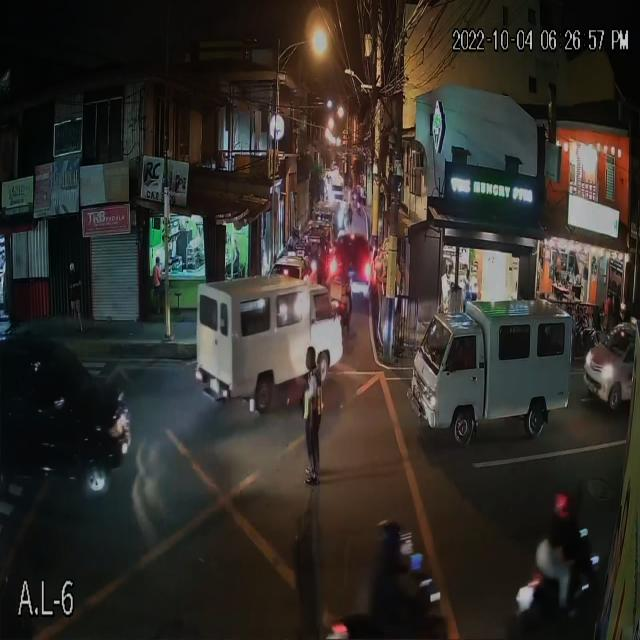Full-Faced: (376, 515, 404, 569), (550, 485, 571, 521)
